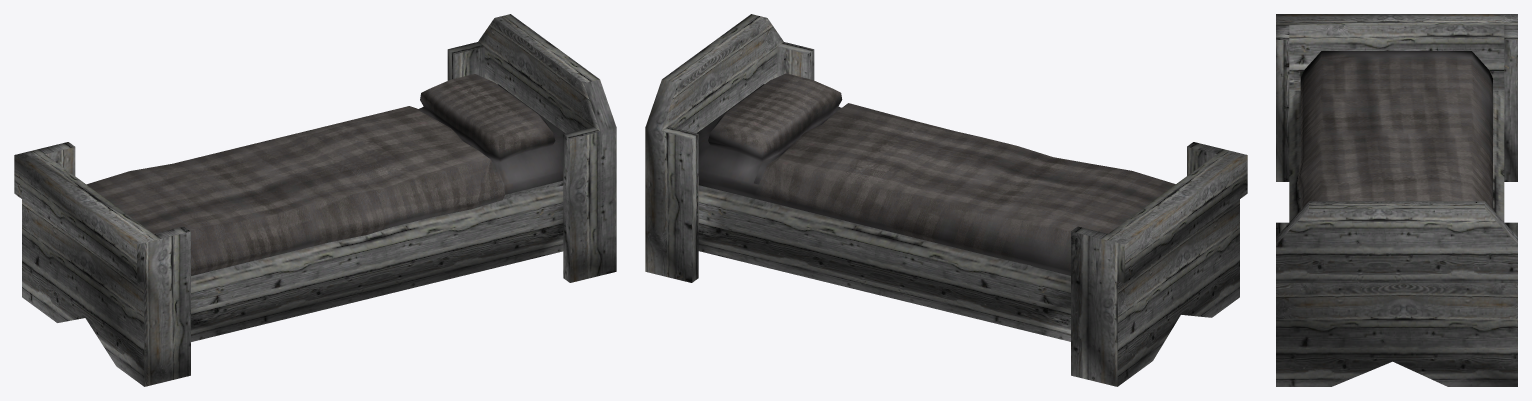
File: bed.obj
The picture shows the model from 3 angles, left to right: view 1: azimuth 30°, elevation 25°; view 2: azimuth 150°, elevation 25°; view 3: azimuth 270°, elevation 25°; orthographic projection.
Parts seen in each view (by area): view 1: bed; view 2: bed; view 3: bed.
Boxes of the visible parts, x1,y1,x2,y2 form: bed: (14,14,616,386); bed: (645,14,1247,386); bed: (1276,14,1517,386).
Size of the model in its own units: 3.3 by 1.19 by 1.46.
Materials: 1 (1 with a texture image).
